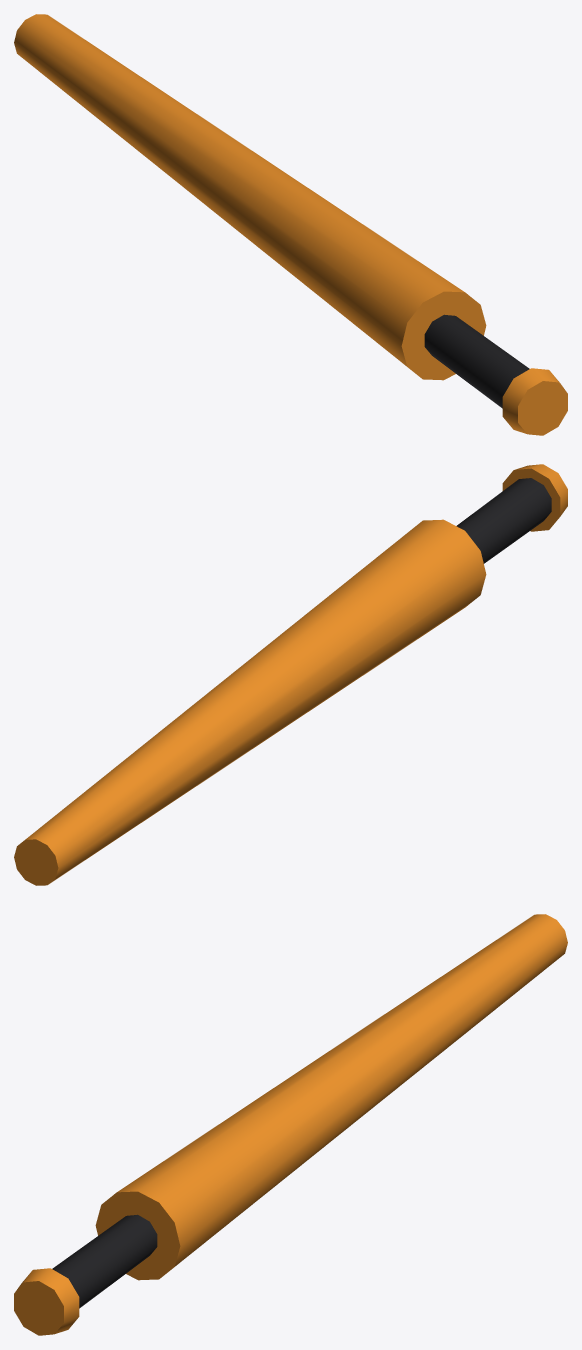
The model's file is bat.glb.
3 views of the same model, one above another, from view 1: azimuth 30°, elevation 25°; view 2: azimuth 150°, elevation 25°; view 3: azimuth 330°, elevation 25° (orthographic).
Parts seen in each view (by area): view 1: bat__Body; view 2: bat__Body; view 3: bat__Body.
Part boxes in pixels (x1,y1,x2,y2): bat__Body: (14,14,567,435); bat__Body: (14,464,567,885); bat__Body: (14,914,567,1335).
Bounding box in the file's own units: 0.084 × 0.084 × 0.87.
